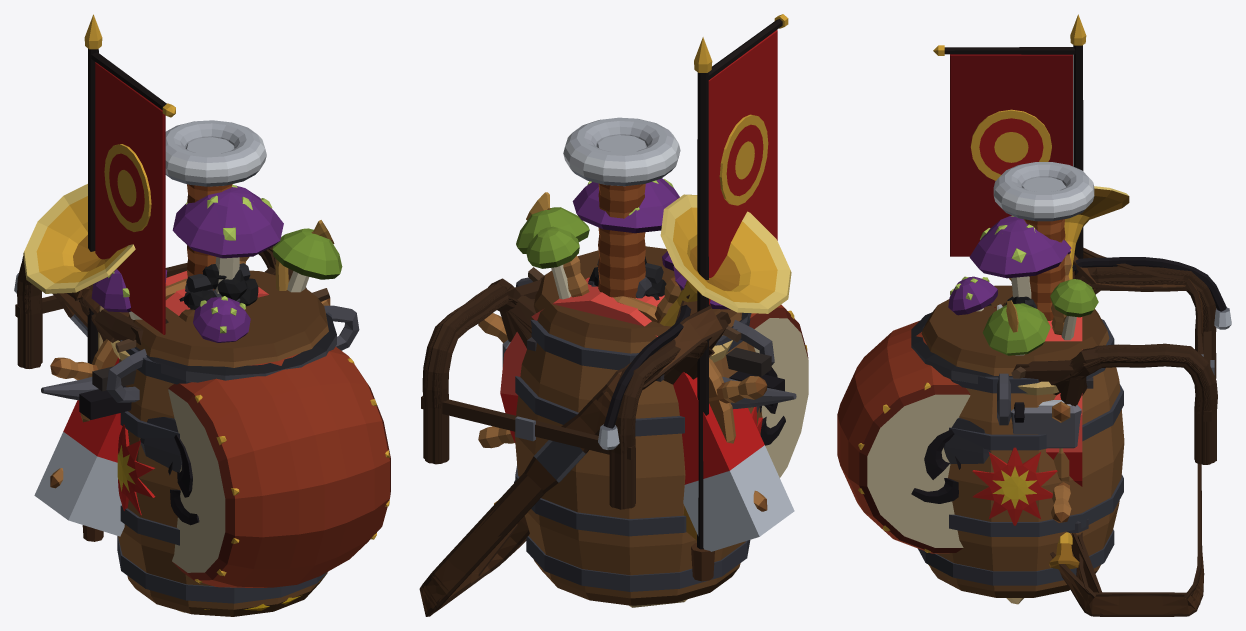
The model's file is kit_back.glb.
The picture shows the model from 3 angles, left to right: view 1: azimuth 30°, elevation 25°; view 2: azimuth 150°, elevation 25°; view 3: azimuth 270°, elevation 25°; orthographic projection. The views are drawn at different scales.
Visible parts, largest first — view 1: VW_Drumbeat, VW_PowderPlate, VW_VanguardsPennon, VW_BlightMoth, VW_LodestoneSpike, VW_StormGlassBead, VW_HeraldsRibbon, VW_HagsGift, VW_BellowsCharm, VW_VipersKiss, VW_Wheelband, VW_PatientFist (+4 smaller); view 2: VW_PowderPlate, VW_VanguardsPennon, VW_LodestoneSpike, VW_StormGlassBead, VW_HeraldsRibbon, VW_BlightMoth, VW_Wheelband, VW_Drumbeat, VW_AshUrn, VW_VipersKiss, VW_BellowsCharm, VW_BastionPlate (+5 smaller); view 3: VW_PowderPlate, VW_VanguardsPennon, VW_Drumbeat, VW_BlightMoth, VW_StormGlassBead, VW_PlummetStone, VW_LodestoneSpike, VW_HagsGift, VW_HeraldsRibbon, VW_AshUrn, VW_BellowsCharm, VW_VipersKiss (+5 smaller).
Boxes of the visible parts, <box> form: VW_Drumbeat: <box>15,253,390,587</box>; VW_PowderPlate: <box>19,252,331,616</box>; VW_VanguardsPennon: <box>53,14,175,541</box>; VW_BlightMoth: <box>17,184,342,368</box>; VW_LodestoneSpike: <box>34,271,268,536</box>; VW_StormGlassBead: <box>17,120,266,368</box>; VW_HeraldsRibbon: <box>23,184,135,349</box>; VW_HagsGift: <box>18,253,359,472</box>; VW_BellowsCharm: <box>19,252,275,368</box>; VW_VipersKiss: <box>28,257,330,368</box>; VW_Wheelband: <box>50,256,330,488</box>; VW_PatientFist: <box>17,254,259,419</box>; VW_PowderPlate: <box>424,246,762,605</box>; VW_VanguardsPennon: <box>421,14,788,616</box>; VW_LodestoneSpike: <box>419,277,794,616</box>; VW_StormGlassBead: <box>422,117,700,507</box>; VW_HeraldsRibbon: <box>421,194,791,613</box>; VW_BlightMoth: <box>439,178,732,446</box>; VW_Wheelband: <box>421,255,767,614</box>; VW_Drumbeat: <box>425,285,808,508</box>; VW_AshUrn: <box>421,285,707,507</box>; VW_VipersKiss: <box>426,267,741,509</box>; VW_BellowsCharm: <box>424,256,706,509</box>; VW_BastionPlate: <box>421,278,709,607</box>; VW_PowderPlate: <box>918,270,1216,597</box>; VW_VanguardsPennon: <box>933,14,1204,616</box>; VW_Drumbeat: <box>837,270,1215,553</box>; VW_BlightMoth: <box>948,215,1214,464</box>; VW_StormGlassBead: <box>993,162,1216,464</box>; VW_PlummetStone: <box>1011,267,1214,532</box>; VW_LodestoneSpike: <box>1045,283,1203,616</box>; VW_HagsGift: <box>911,272,1214,464</box>; VW_HeraldsRibbon: <box>1049,186,1202,614</box>; VW_AshUrn: <box>1072,257,1231,464</box>; VW_BellowsCharm: <box>1005,269,1216,464</box>; VW_VipersKiss: <box>1009,266,1217,463</box>.
Size of the model in its own units: 2.9 by 5.57 by 3.69.
